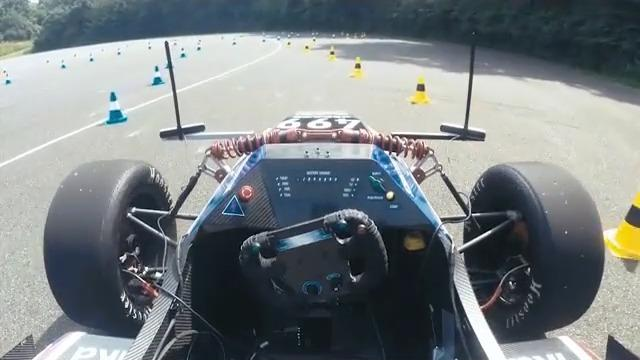blue_cone: (105, 92, 129, 126), (151, 65, 165, 86)
yellow_cone: (601, 185, 640, 261), (408, 75, 431, 105), (350, 56, 367, 79)
